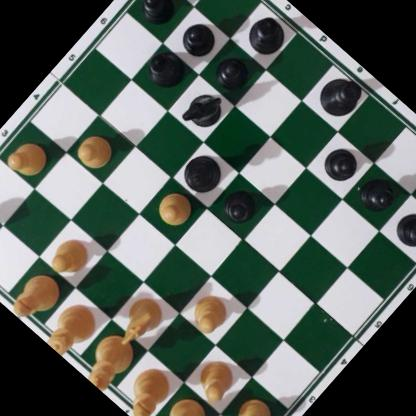black-bishop: (239, 8, 294, 62), (140, 44, 192, 96)
black-king: (310, 67, 369, 125)
black-knight: (181, 83, 231, 133)
black-pawn: (216, 180, 266, 229), (318, 139, 366, 187), (176, 14, 223, 62), (211, 47, 257, 94), (356, 171, 402, 217), (389, 204, 416, 255), (136, 0, 183, 28)
black-queen: (177, 147, 229, 199)
white-bishop: (7, 264, 68, 327), (115, 360, 179, 416)
white-king: (76, 325, 144, 395)
white-knight: (107, 289, 172, 356)
white-pawn: (190, 351, 245, 406), (45, 229, 97, 282), (70, 124, 122, 176), (3, 132, 54, 183), (185, 286, 236, 337), (151, 185, 198, 231), (230, 390, 282, 416)
white-queen: (39, 295, 105, 362)
white-rook: (150, 393, 217, 416)
